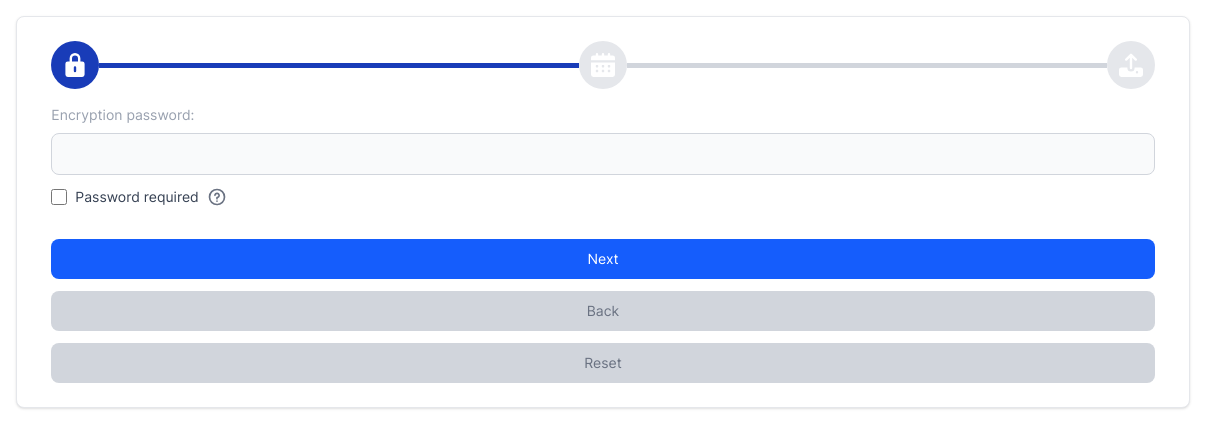
Upload form › Password validation
Expected: the password field labelled "Encryption password:" is disabled, top-left (51, 133), bottom-right (1155, 175)
Click the checkbox labelled "Password required". click: (59, 197)
box: top-left (51, 189), bottom-right (67, 205)
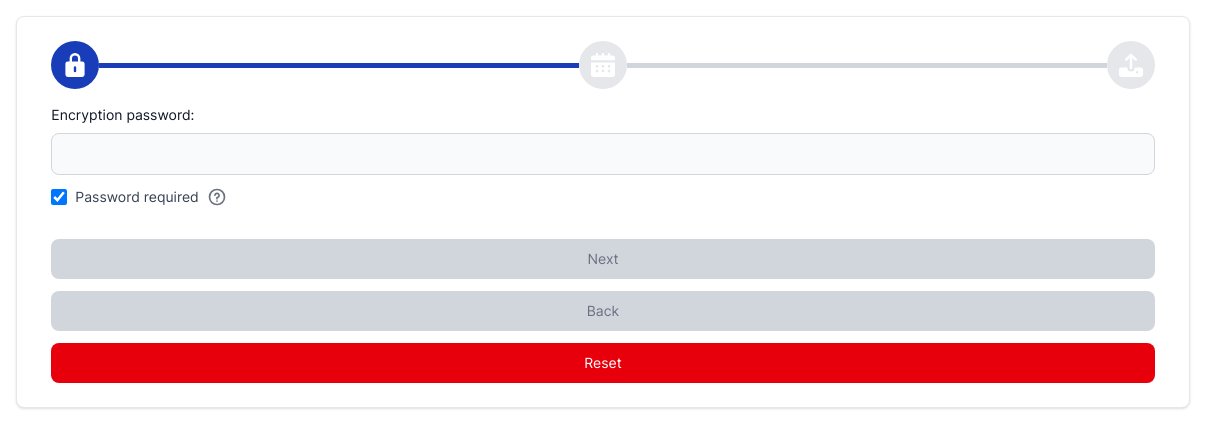
Type "test" into the password field labelled "Encryption password:". click: (603, 154)
box: top-left (51, 133), bottom-right (1155, 175)
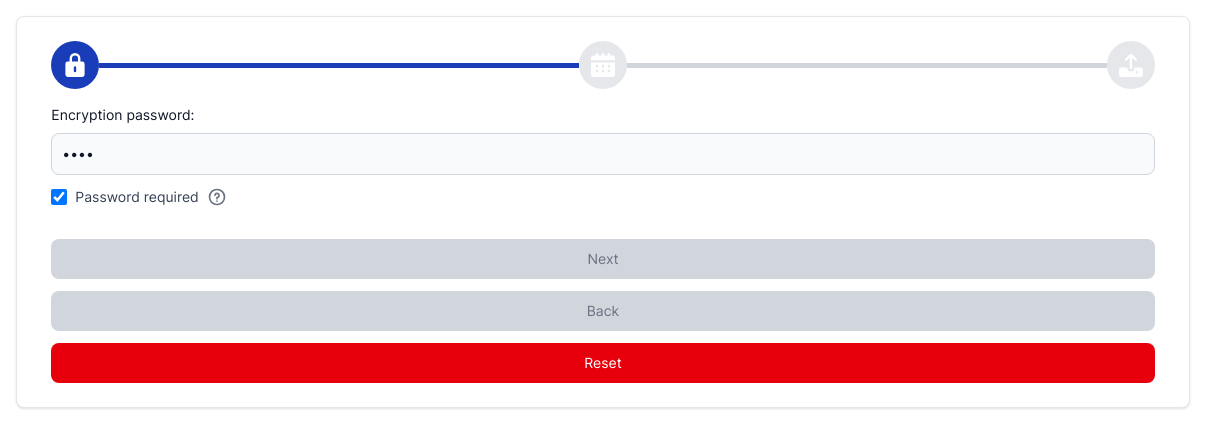
Clear the password field labelled "Encryption password:". click: (603, 154)
box: top-left (51, 133), bottom-right (1155, 175)
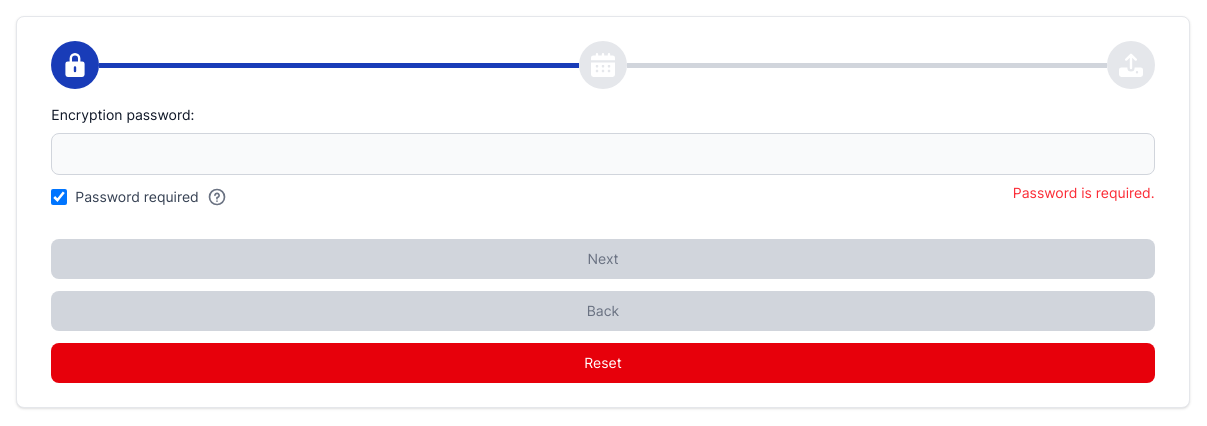
Now the text "Password is required." is shown, box top-left (1013, 184), bottom-right (1155, 201)
